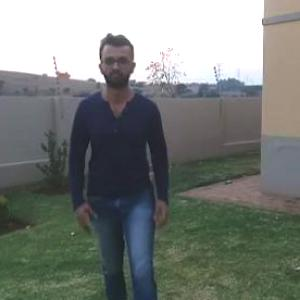follow: (68, 26, 169, 299)
